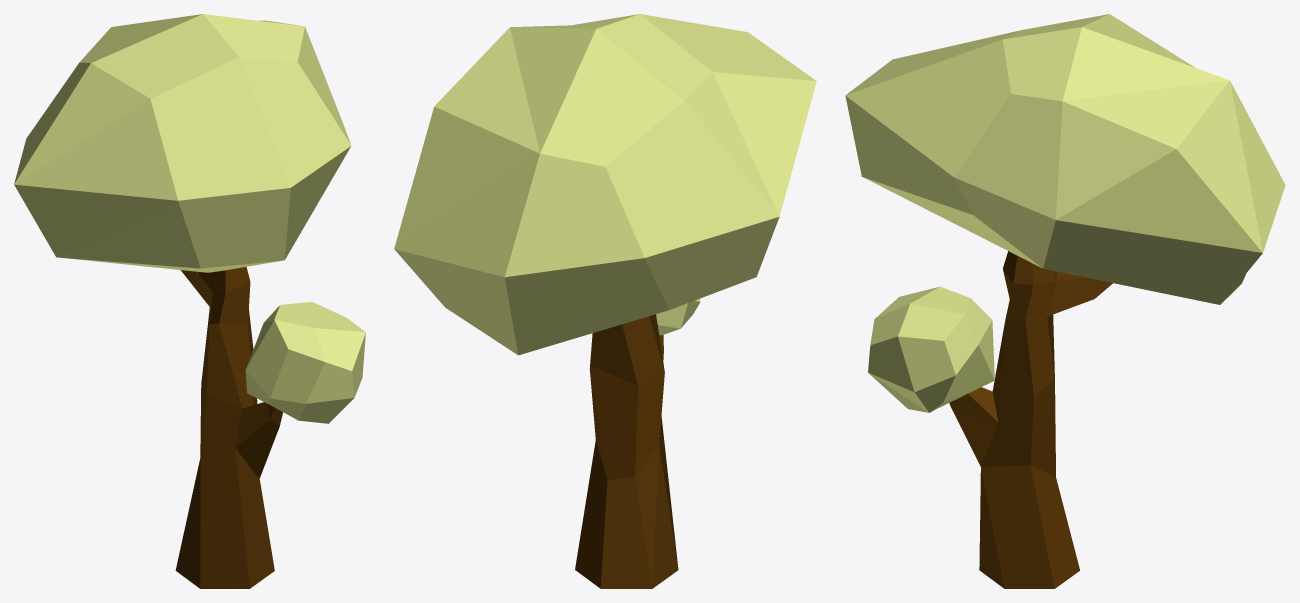
The model's file is tree2.fbx.
3 views of the same model, side by side, from view 1: azimuth 30°, elevation 25°; view 2: azimuth 150°, elevation 25°; view 3: azimuth 270°, elevation 25° (orthographic). The views are drawn at different scales.
Parts seen in each view (by area): view 1: polySurface182; view 2: polySurface182; view 3: polySurface182.
Part boxes in pixels (x1=…): polySurface182: x1=14, y1=14, x2=365, y2=588; polySurface182: x1=394, y1=14, x2=816, y2=588; polySurface182: x1=845, y1=14, x2=1285, y2=588.
Bounding box in the file's own units: 0.8193 × 1.36 × 0.9968.
